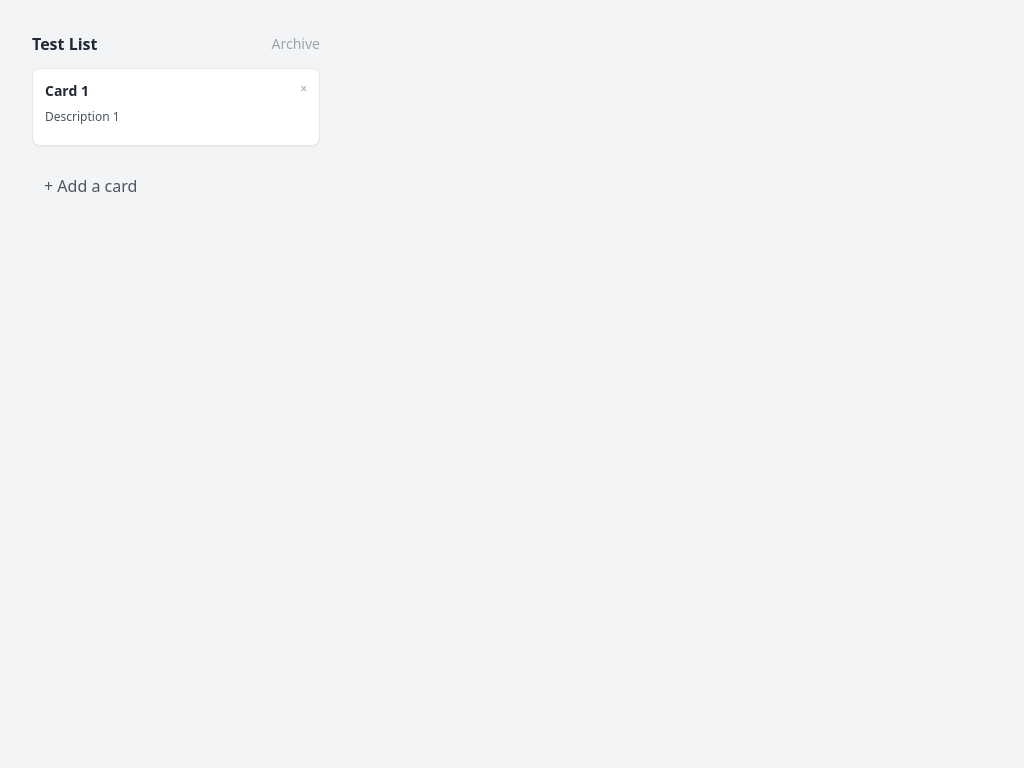
Test: Board › should handle card modal close
Click the heading "Card 1" at coordinates (67, 90), box [45,81,89,100]
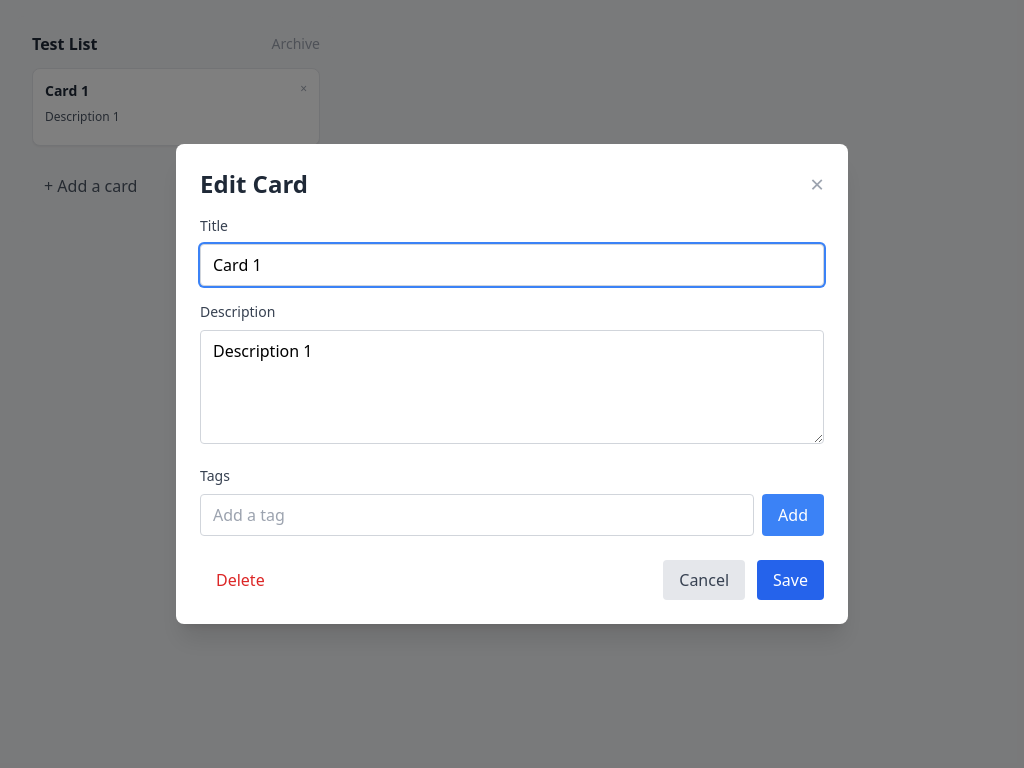
Now the heading "Edit Card" is shown, box [200,168,308,200]
Find and click close button
Click the button named "close" at coordinates (817, 184), box [810,168,824,200]
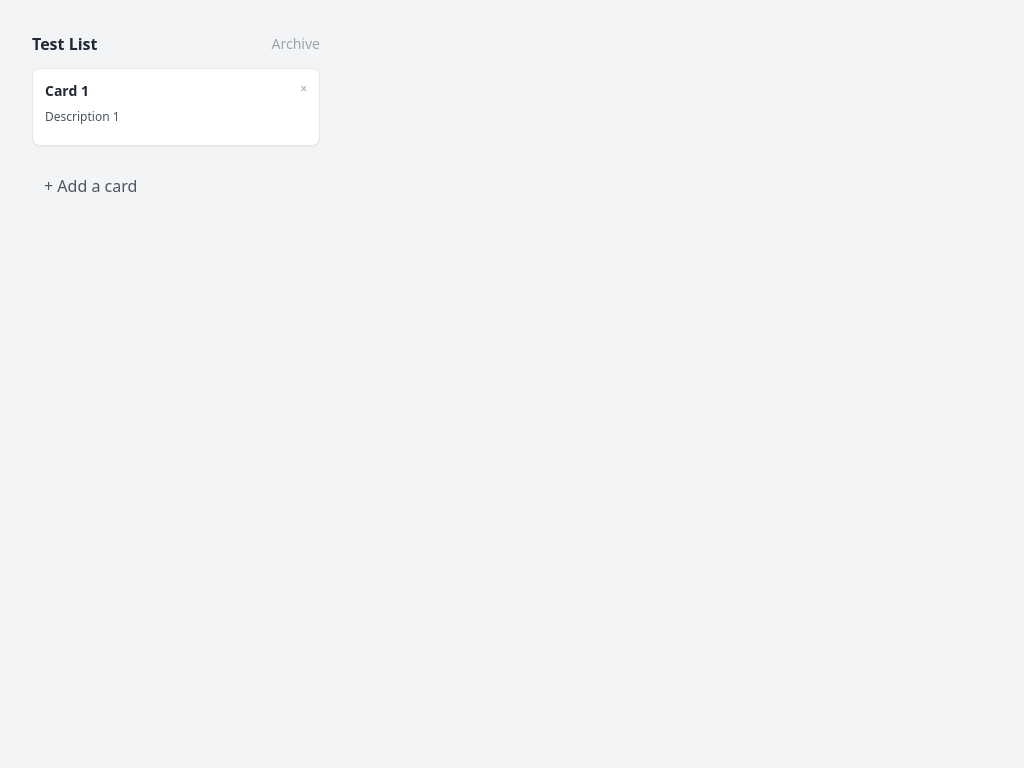
Now the button "Edit Card" is gone
